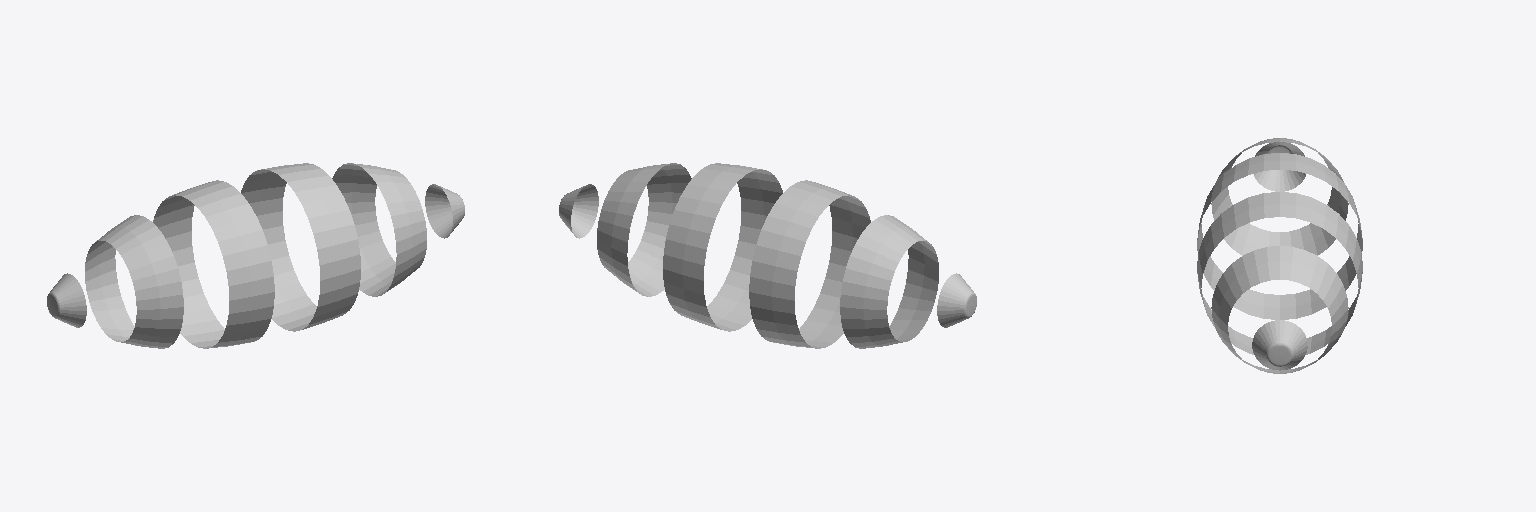
The model's file is qiguaiqiu.obj.
3 renders of one model, left to right at view 1: azimuth 30°, elevation 25°; view 2: azimuth 150°, elevation 25°; view 3: azimuth 270°, elevation 25°, orthographic.
Visible parts, largest first — view 1: polySurface23; view 2: polySurface23; view 3: polySurface23.
Part boxes in pixels (bbox=[...]): polySurface23: bbox=[47, 163, 464, 348]; polySurface23: bbox=[559, 163, 976, 348]; polySurface23: bbox=[1197, 138, 1362, 373].
Size of the model in its own units: 2076 by 734 by 734.